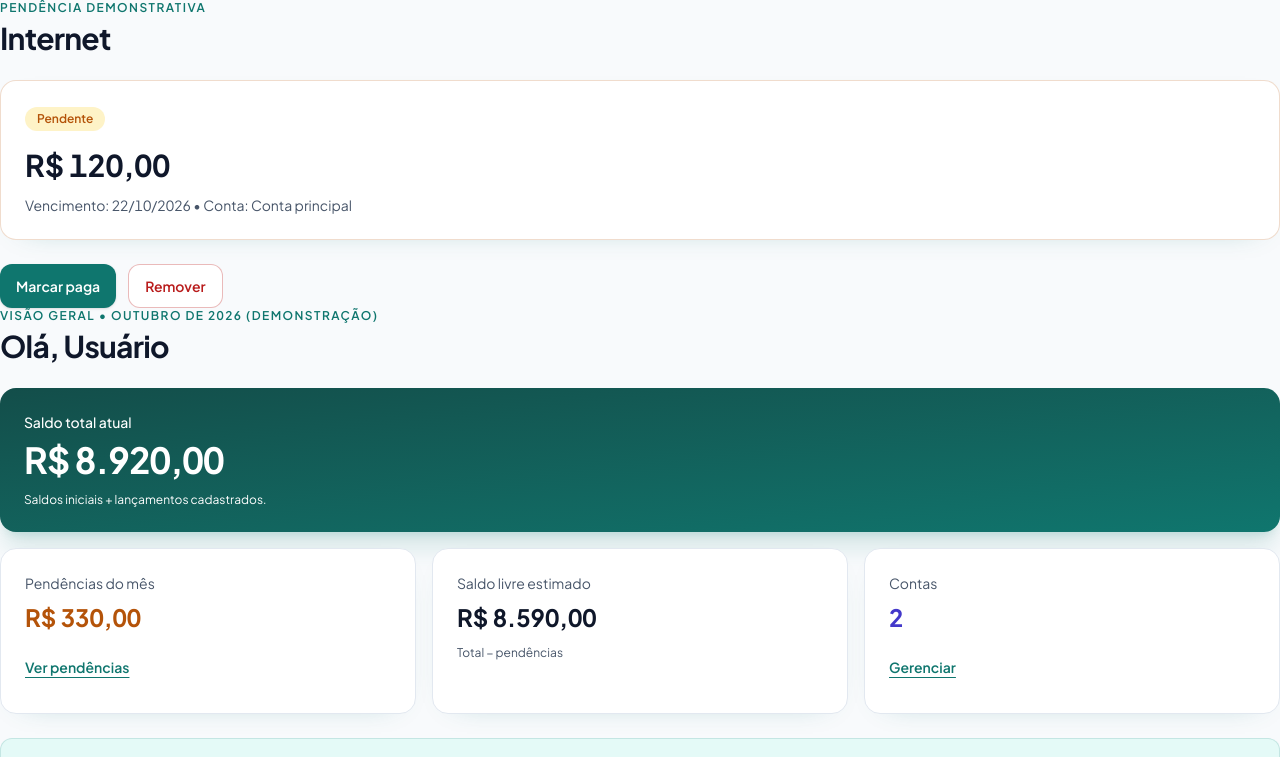
it: fluxos financeiros › cancelar pagamento não altera e confirmar recalcula os totais
The width and height of the screenshot is (1280, 757).
Expected: the text "R$ 330,00" is shown, [25,602,141,632]
What coordinates should you click on to do the following:
click the button "Marcar paga"
I would click on:
 (58, 286)
Its box is [0,264,116,308].
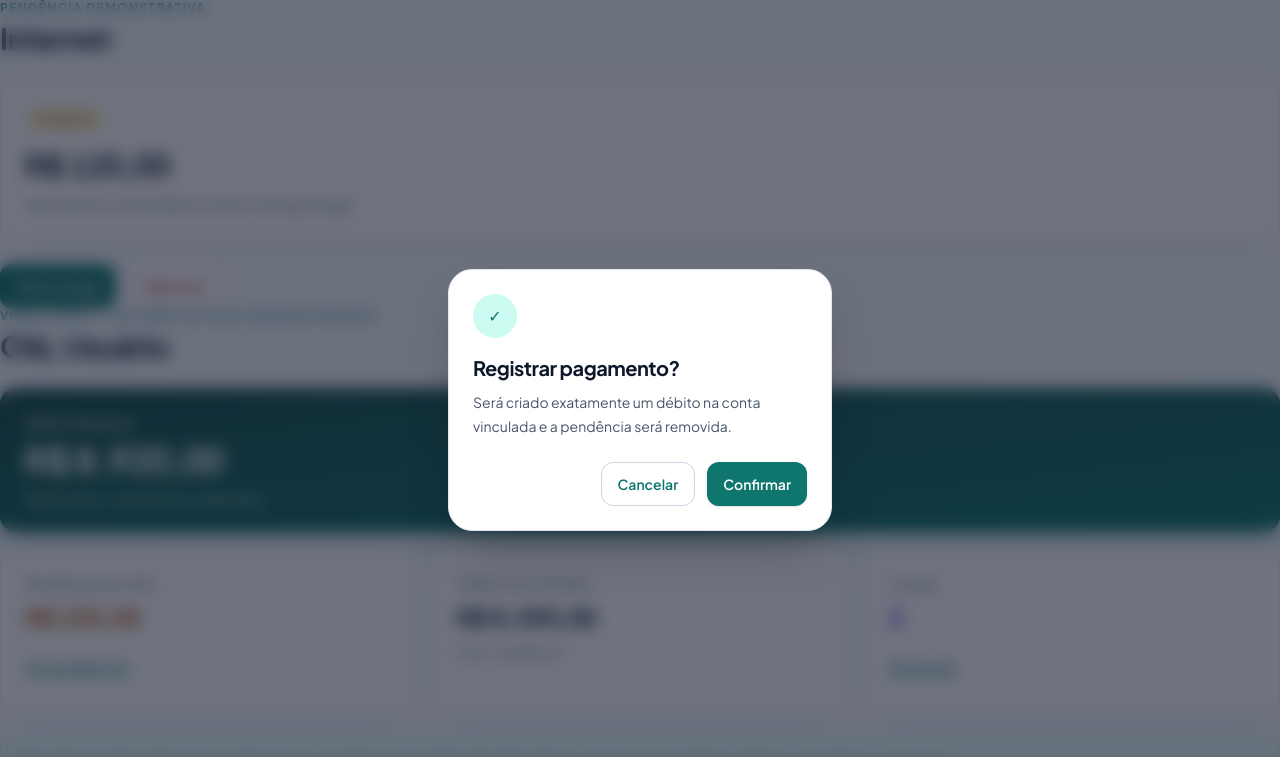
What coordinates should you click on to do the following:
click the button "Cancelar"
I would click on:
 (648, 484)
Its box is [601,462,695,506].
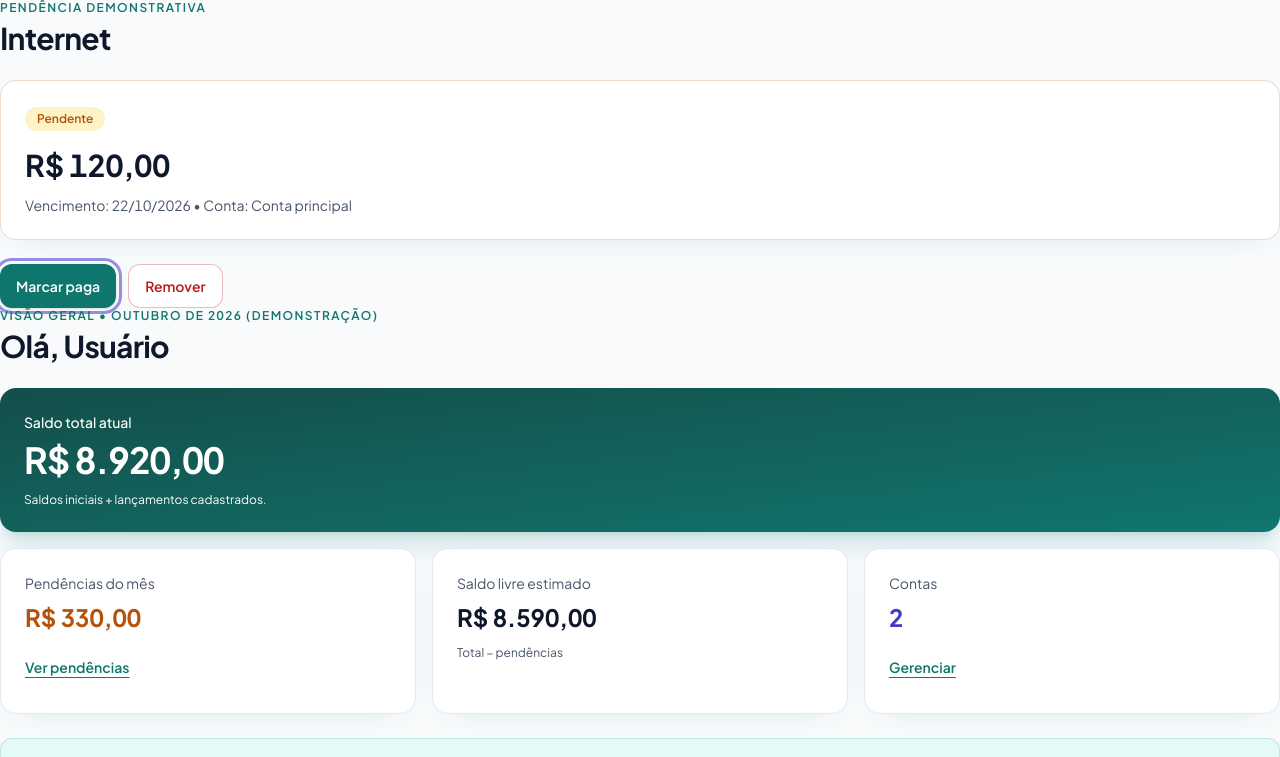
Expected: the text "R$ 330,00" is shown, [25,602,141,632]
What coordinates should you click on to do the following:
click the button "Marcar paga"
I would click on:
 (58, 286)
Its box is [0,264,116,308].
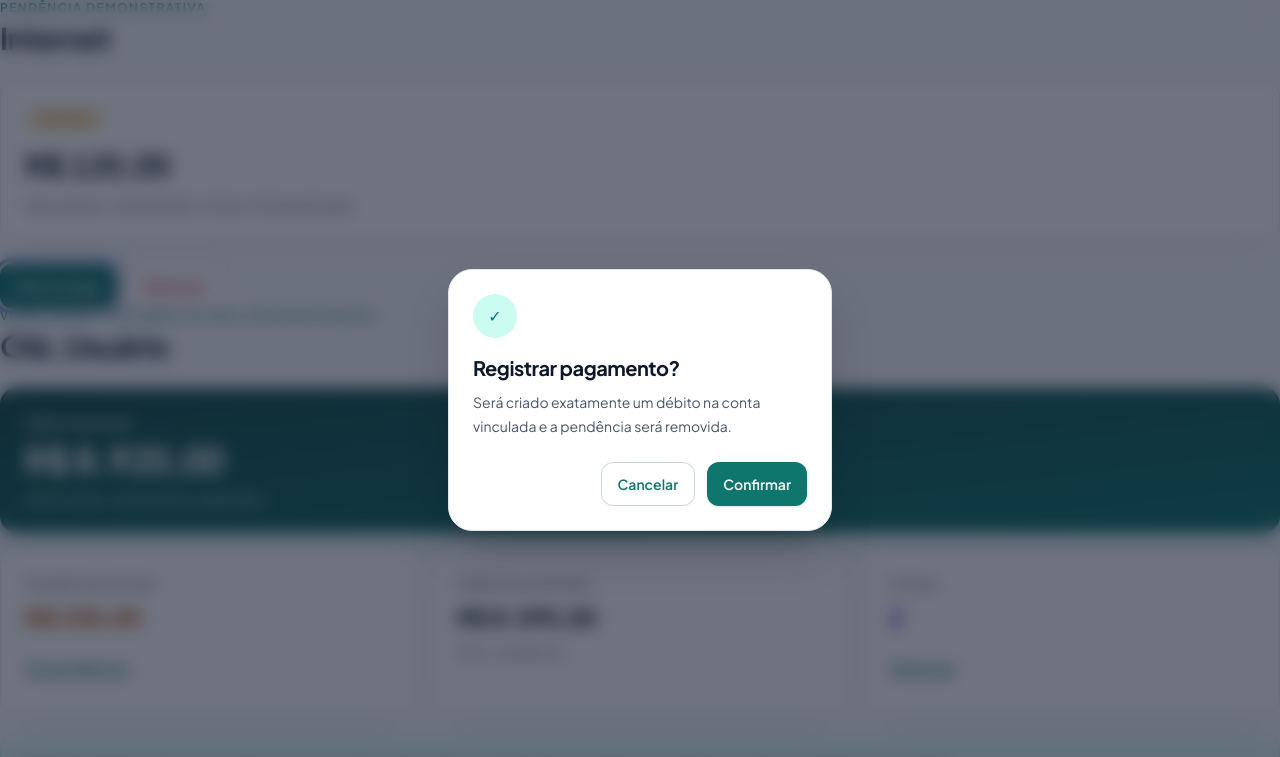
What coordinates should you click on to do the following:
click the button "Confirmar"
I would click on:
 (757, 484)
Its box is [707,462,807,506].
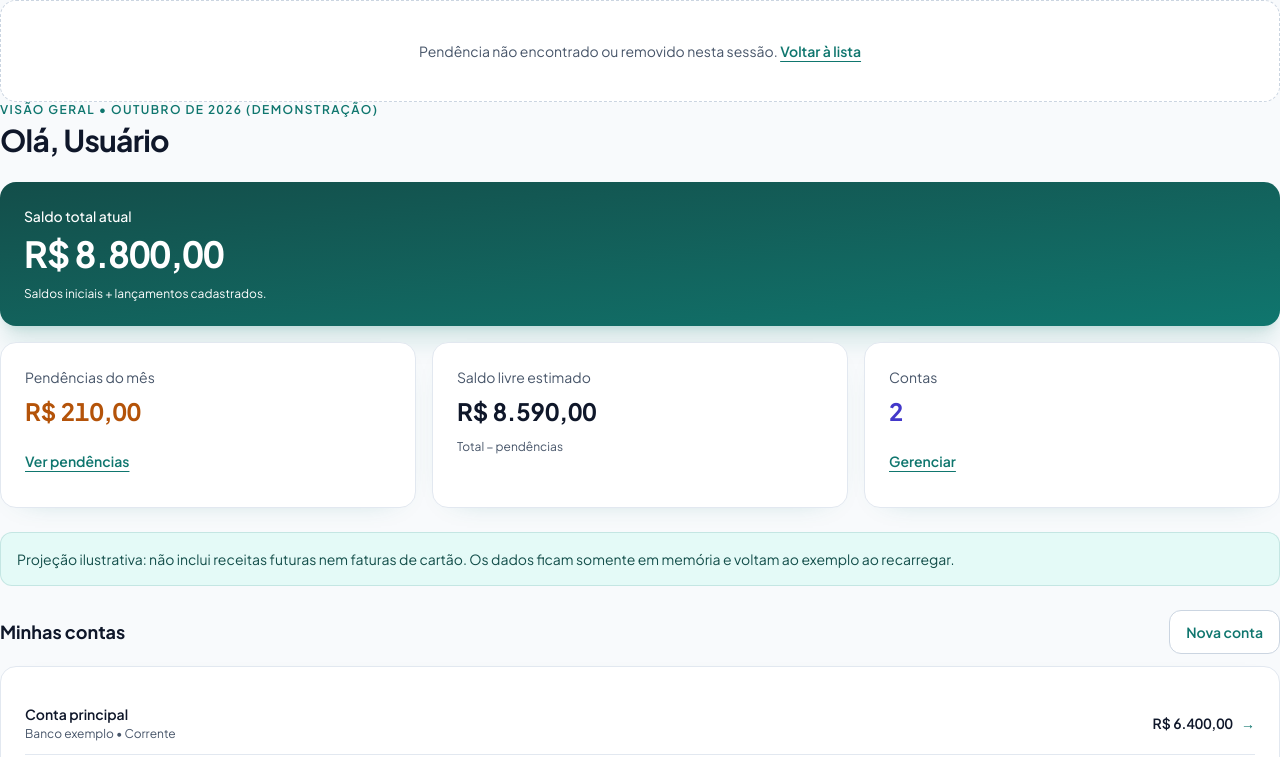
Now the text "R$ 210,00" is shown, box [25,396,141,426]
